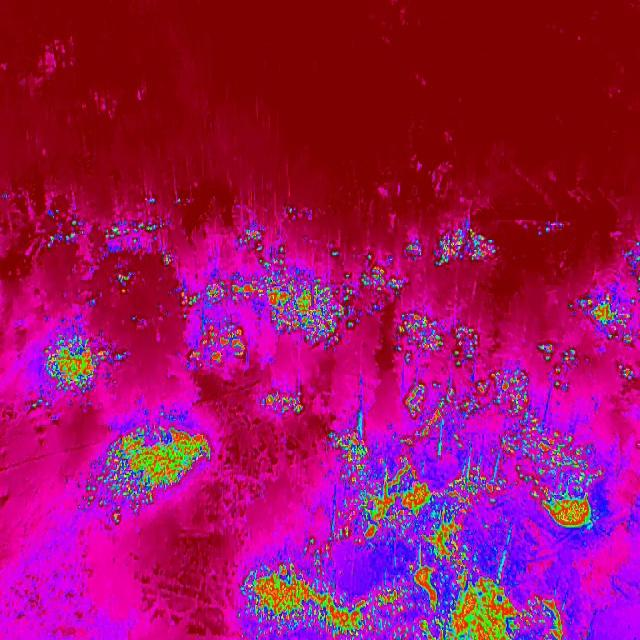fire: (170, 249, 402, 381), (318, 426, 464, 560), (332, 562, 568, 640), (452, 416, 598, 533), (402, 365, 554, 457), (86, 426, 217, 528), (232, 563, 332, 639), (36, 324, 126, 404), (49, 212, 170, 257), (394, 307, 479, 369), (573, 278, 640, 344), (426, 220, 507, 270), (536, 336, 580, 392), (260, 385, 308, 423), (236, 220, 270, 252), (110, 265, 139, 289), (402, 236, 426, 263), (618, 357, 640, 384), (171, 193, 192, 211)
